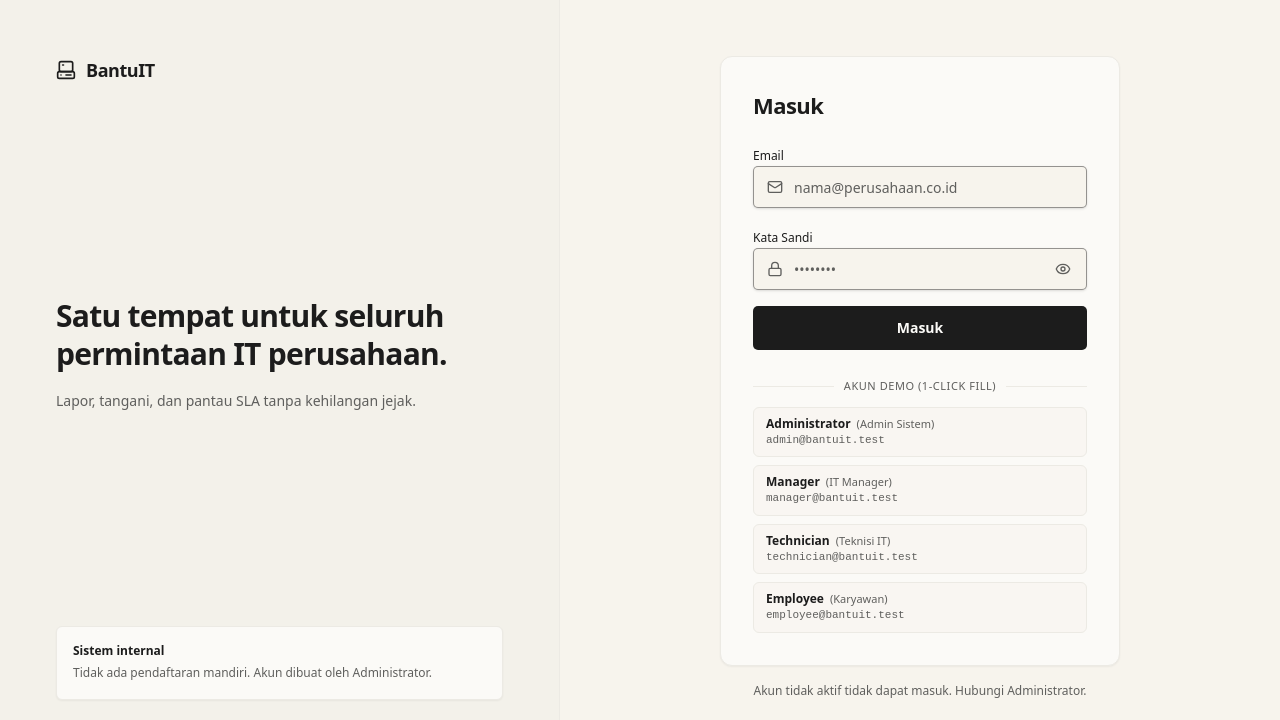
Test: LoginPage Demo Account Quick Fill Cards › fills email and password fields when Manager card is clicked
The image size is (1280, 720).
Click the button "Manager(IT Manager) manager@bantuit.test": (793, 482) [753,465,1087,516]
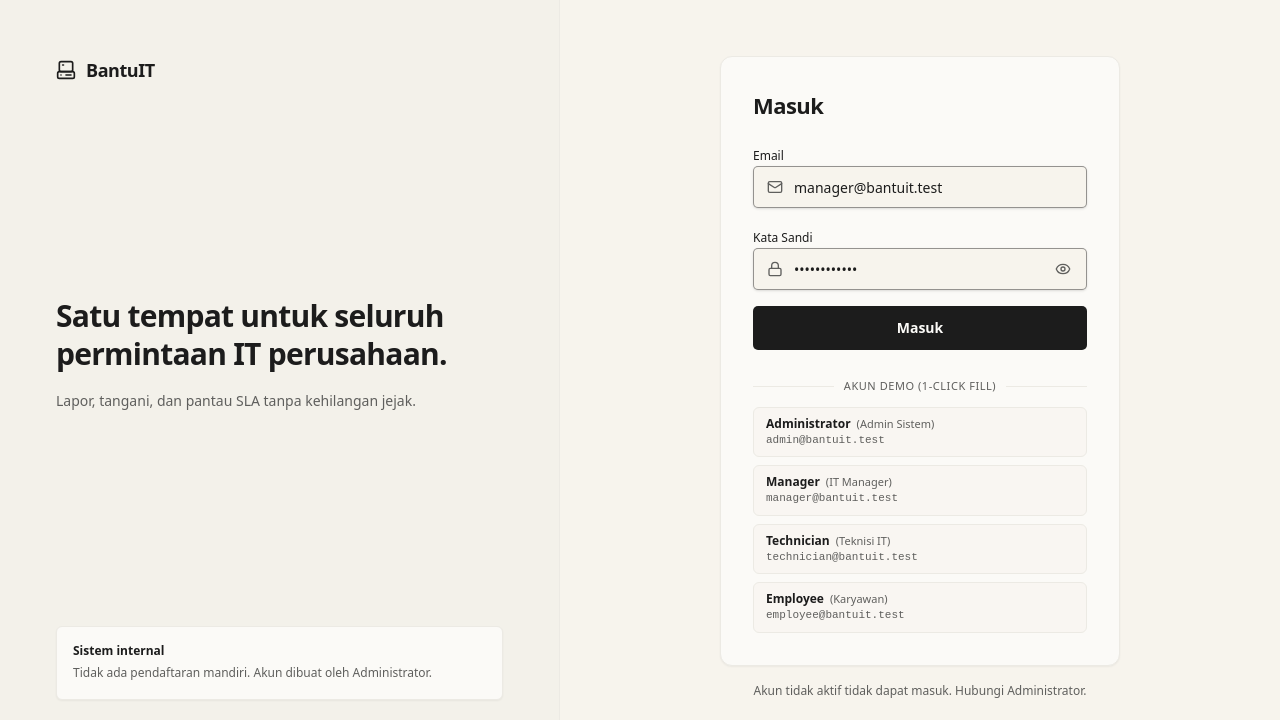
Now the field with placeholder "nama@perusahaan.co.id" holds "manager@bantuit.test", box [753,166,1087,208]
Now the password field with placeholder "••••••••" holds "Password123!", box [753,248,1087,290]
